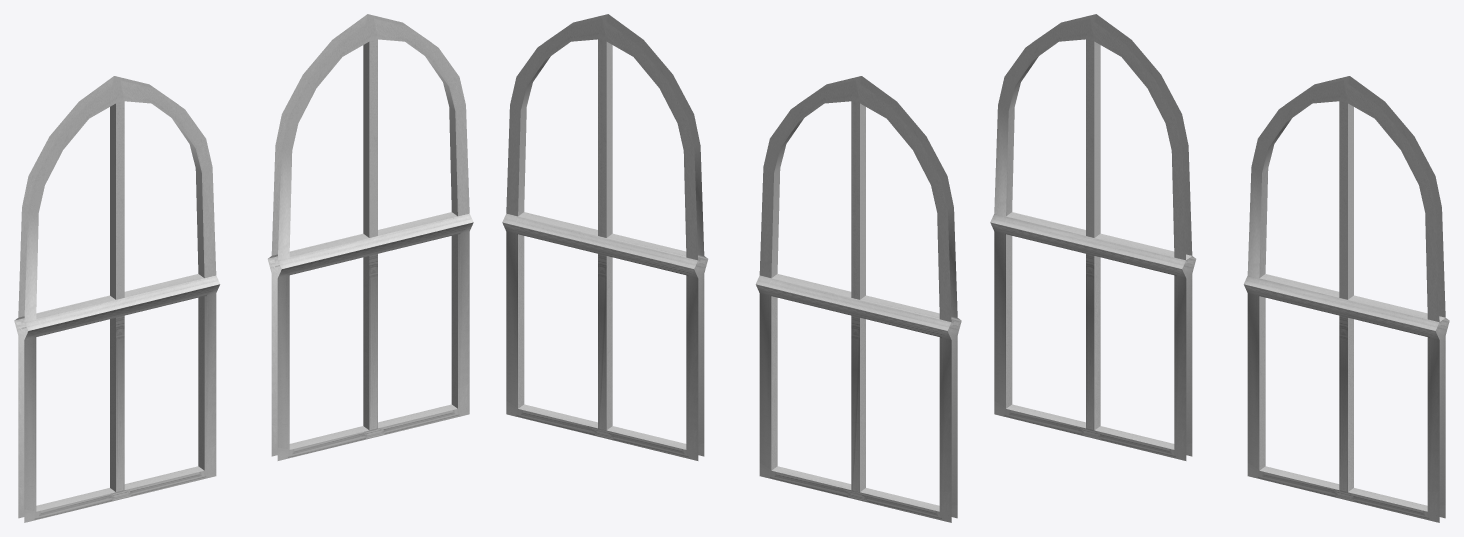
Rendered from WindowRounded2C.fbx.
3 renders of one model, left to right at view 1: azimuth 30°, elevation 25°; view 2: azimuth 150°, elevation 25°; view 3: azimuth 330°, elevation 25°, orthographic.
Parts seen in each view (by area): view 1: WindowRounded2C; view 2: WindowRounded2C; view 3: WindowRounded2C.
Part boxes in pixels (x1,y1,x2,y2): WindowRounded2C: (14,14,473,522); WindowRounded2C: (502,14,961,522); WindowRounded2C: (990,14,1449,522).
Bounding box in the file's own units: 246 × 221 × 13.57.
